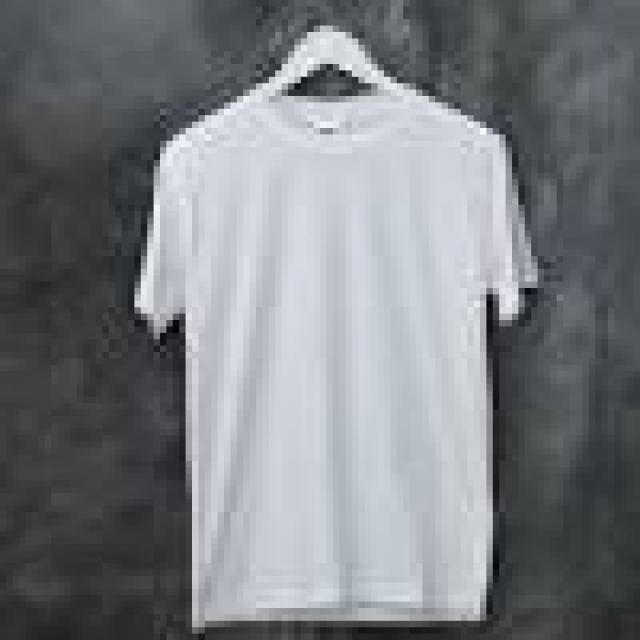Shirt: (82, 44, 559, 629)
